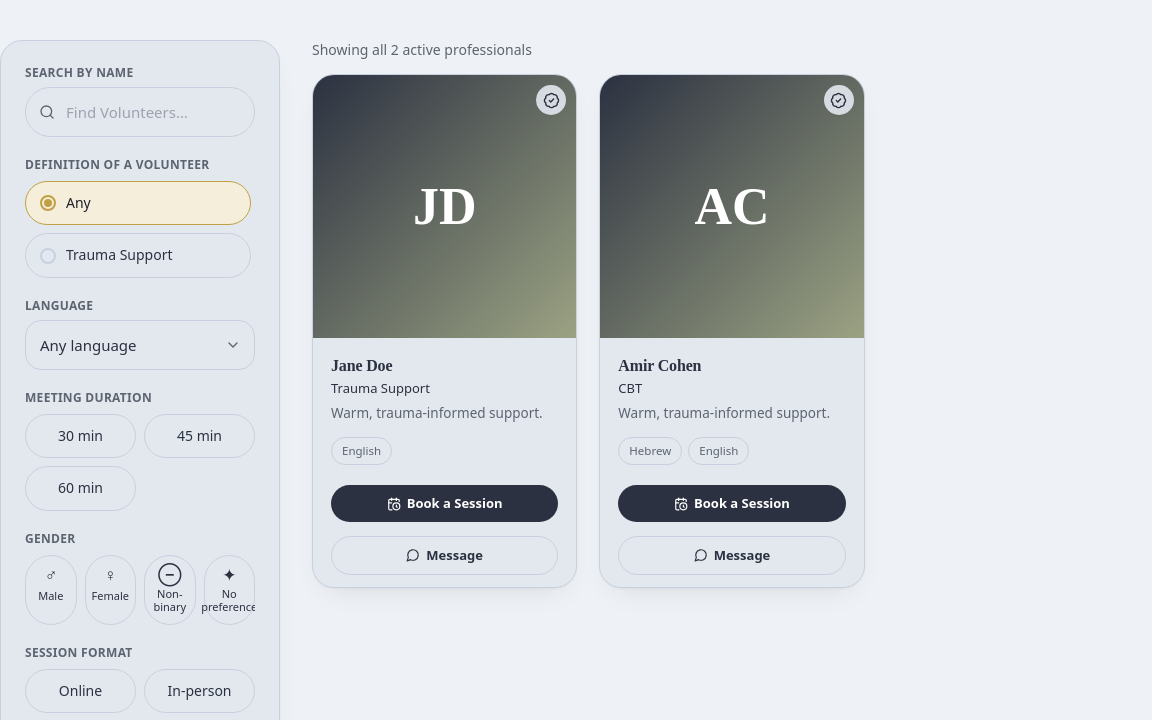
Test: TherapistsDirectory › filters by language
Select "Hebrew" in the dropdown at (140, 345), box [25, 320, 255, 370]
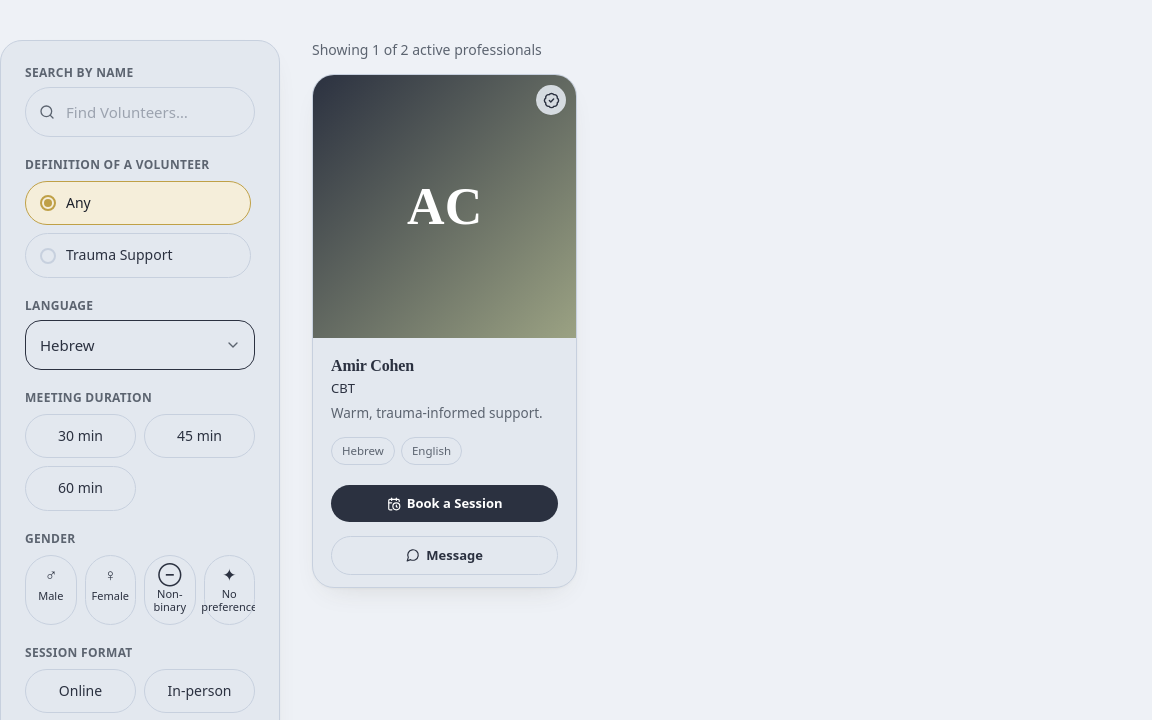
Expected: the heading "Amir Cohen" is shown, [331, 357, 414, 374]
Expected: the heading "Jane Doe" is gone
Expected: the text "Showing 1 of 2 active professionals" is shown, [312, 40, 542, 59]
